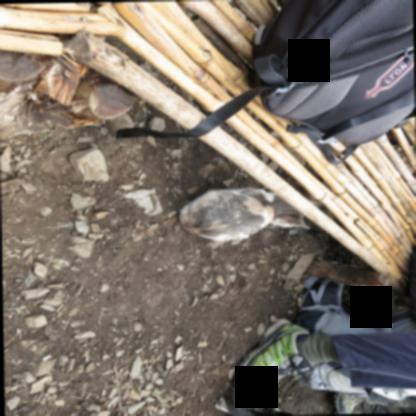backpack: (250, 0, 414, 146), (293, 274, 390, 396)
